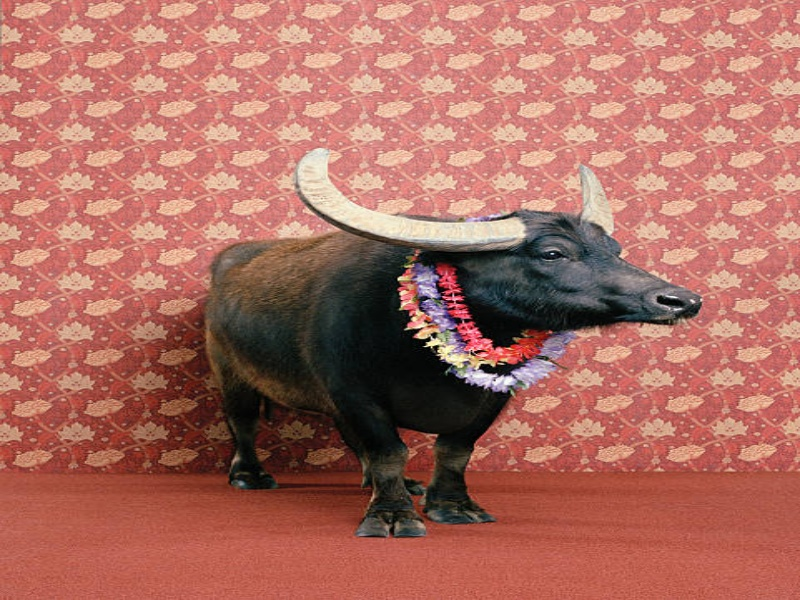buffalo: (192, 149, 705, 537)
